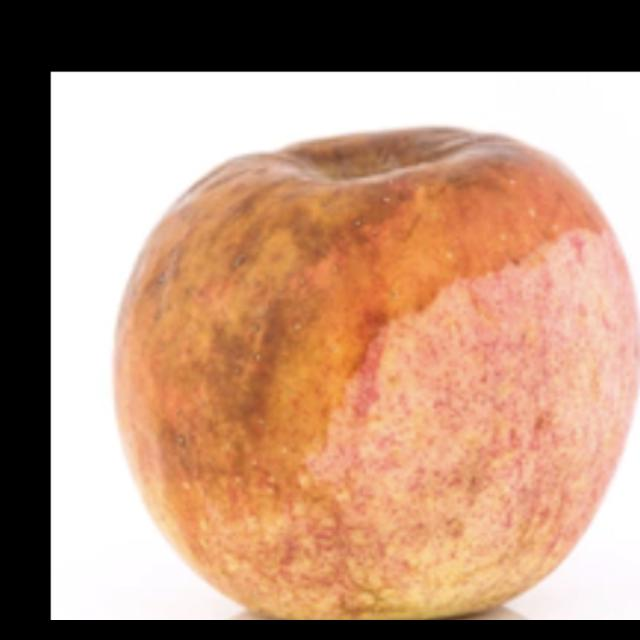Apel Tidak Segar: (95, 94, 640, 602)
